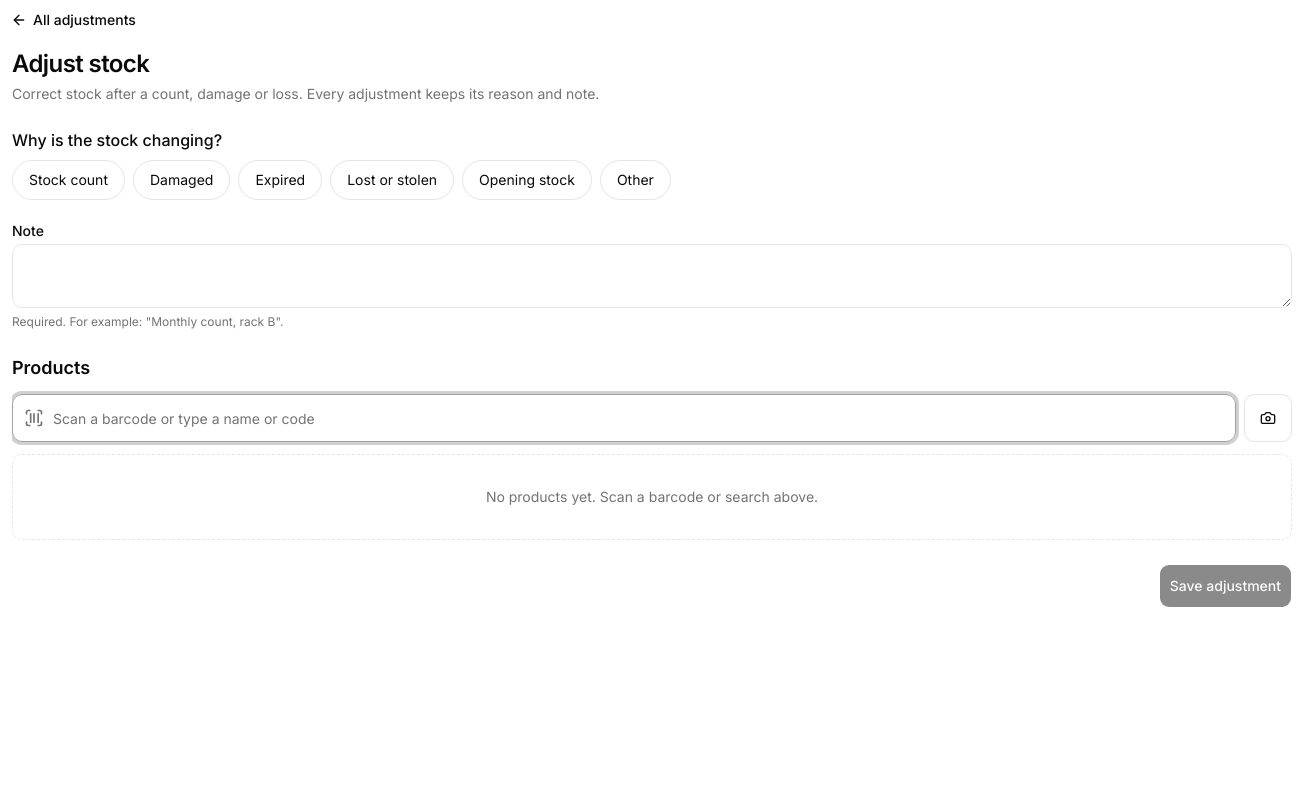
Scenario: adjusting stock › can remove instead of count, and shows line errors from the server
Type "8901719101038" into the field named "Scan or search a product" at {"x": 624, "y": 418}, box x1=12 y1=394 x2=1236 y2=442
Then press Enter
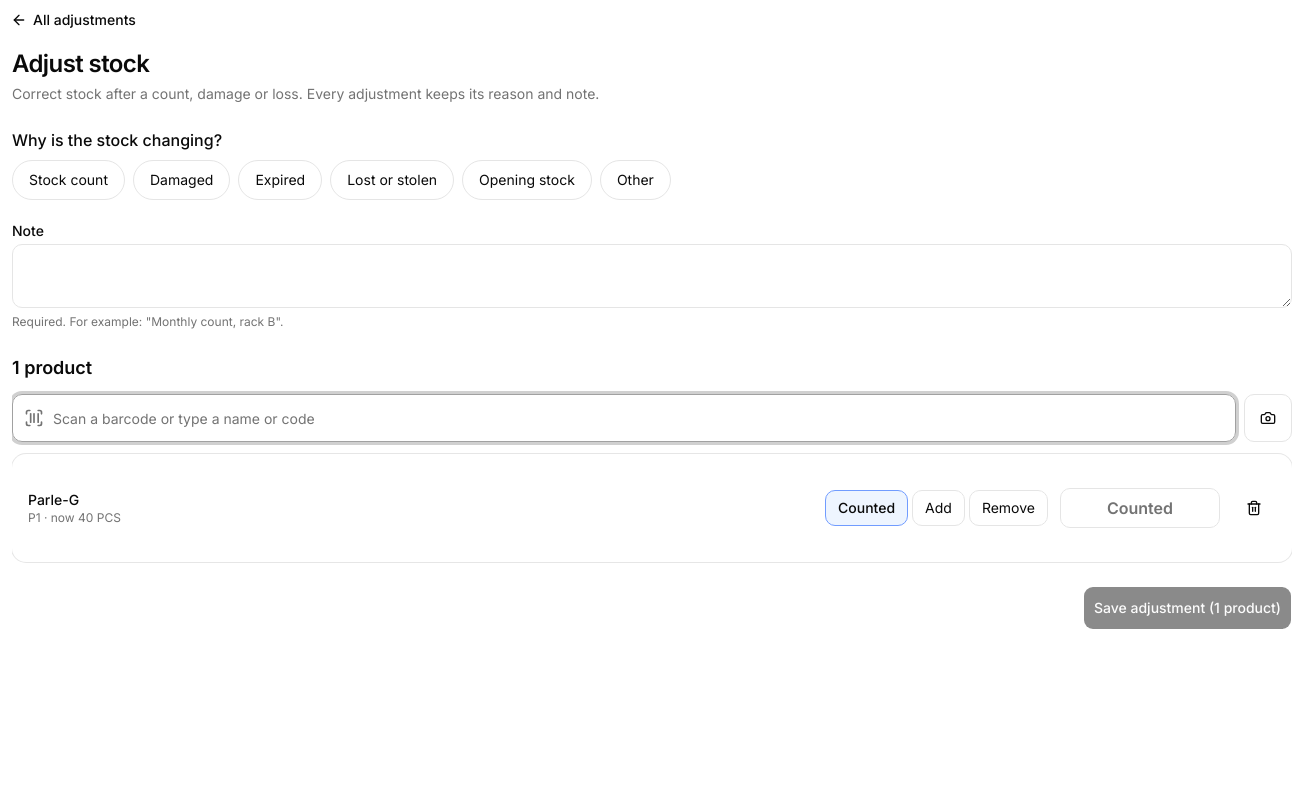
Click the radio button labelled "Remove" at {"x": 1008, "y": 508}, box x1=969 y1=490 x2=1048 y2=526
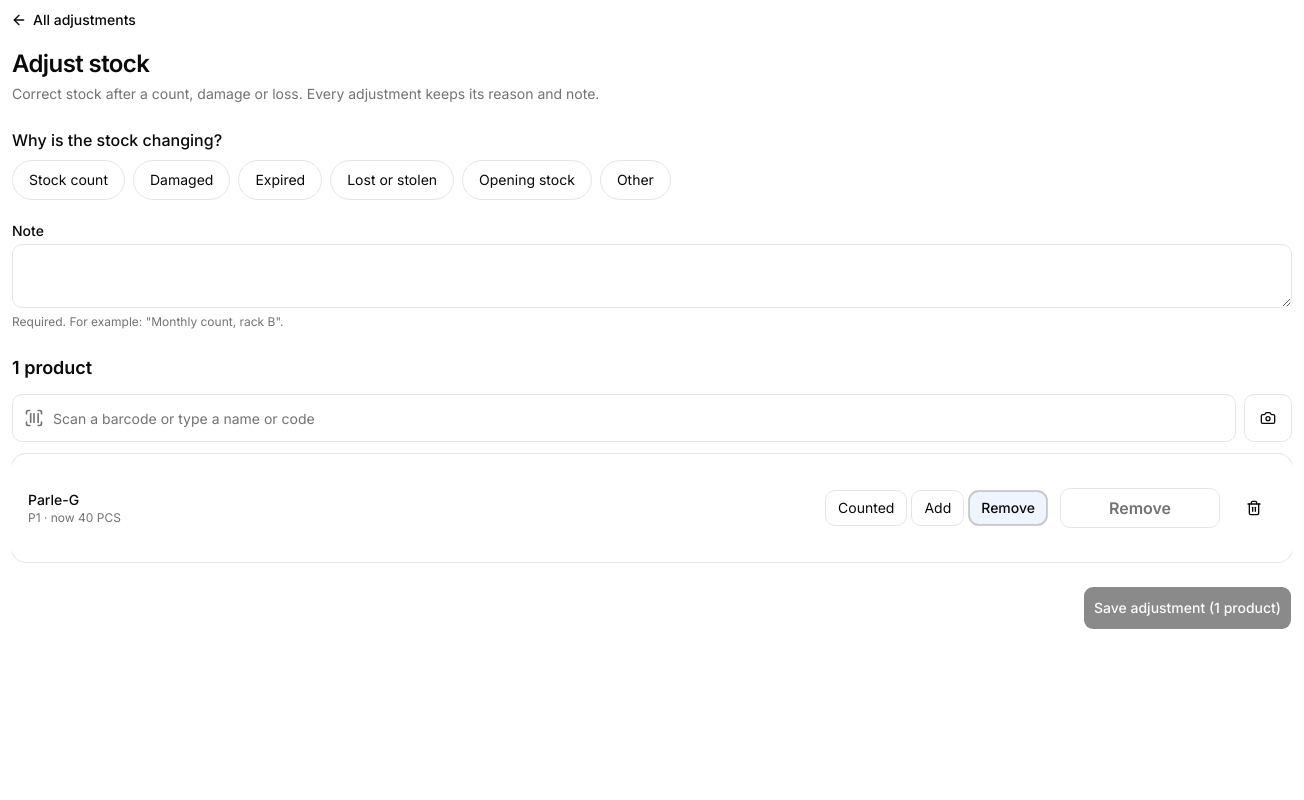
Now the field named "Quantity of Parle-G to remove, in PCS" is shown, box x1=1060 y1=488 x2=1220 y2=528
Click the radio button labelled "Damaged" at {"x": 182, "y": 180}, box x1=133 y1=160 x2=230 y2=200
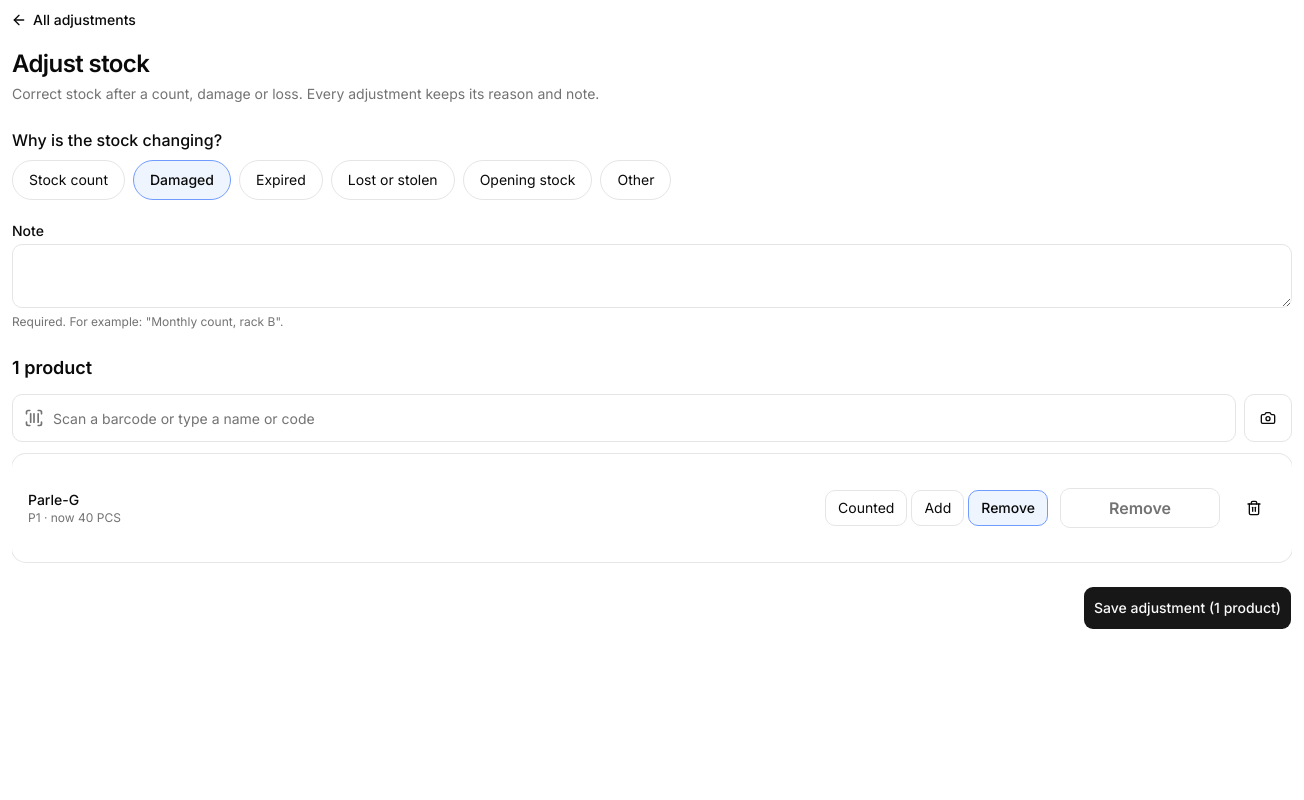
Type "Wet" into the text box labelled "Note" at {"x": 652, "y": 276}, box x1=12 y1=244 x2=1292 y2=308
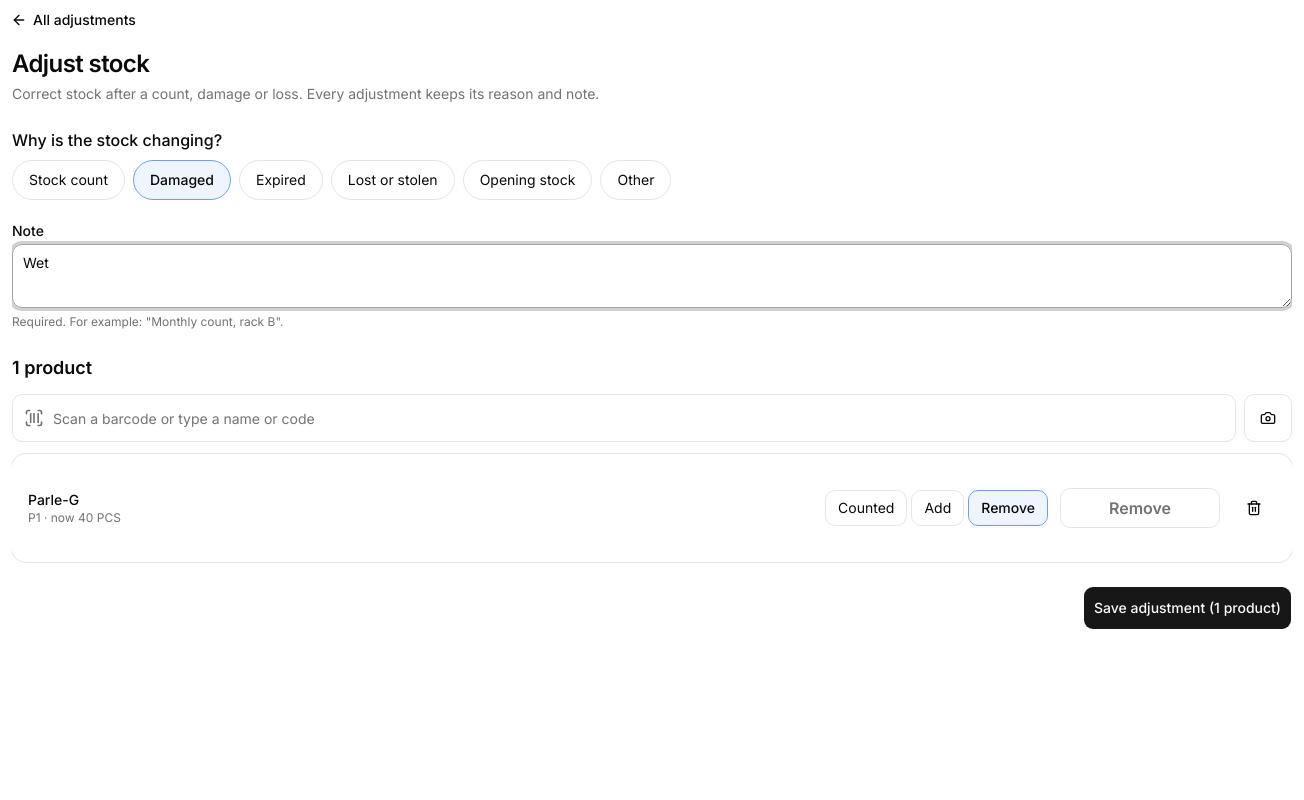
Click the button "Save adjustment (1 product)" at {"x": 1188, "y": 608}, box x1=1083 y1=586 x2=1292 y2=630
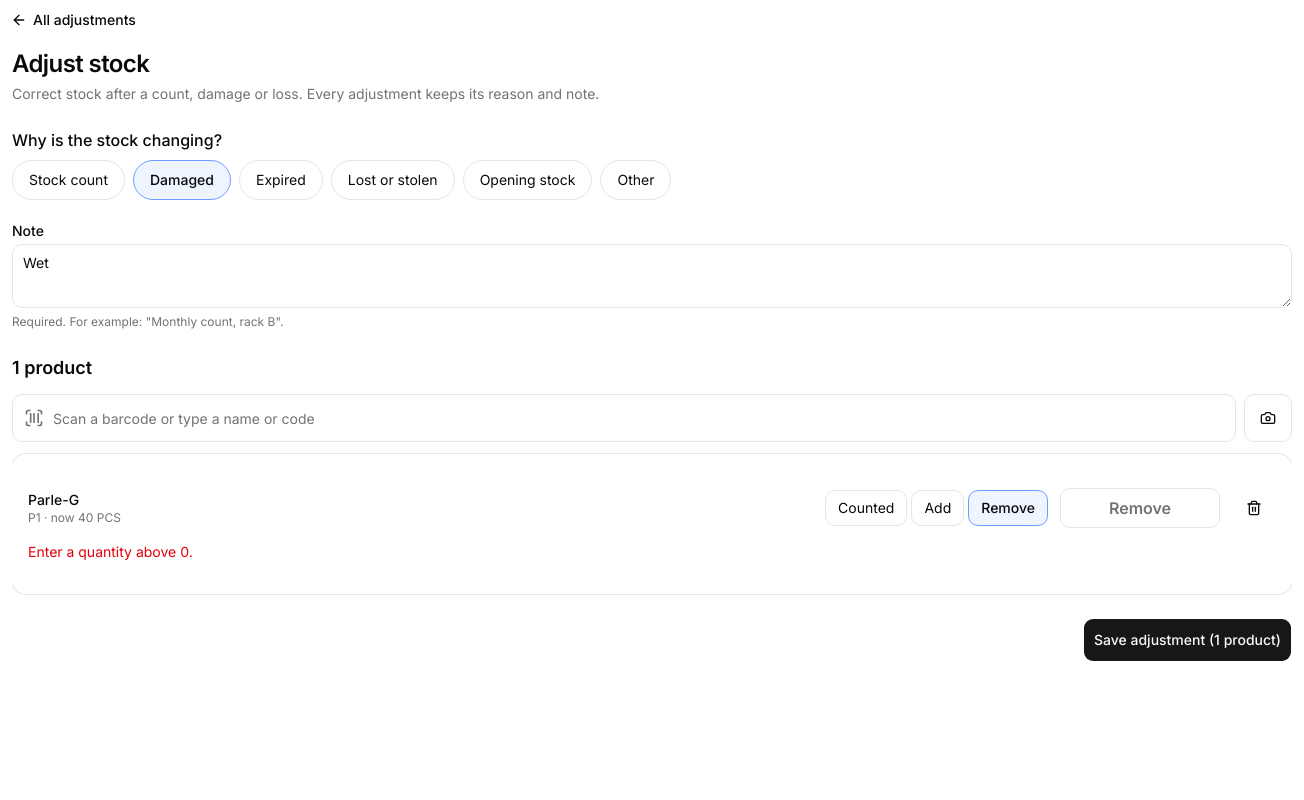
Now the text "Enter a quantity above 0." is shown, box x1=28 y1=543 x2=193 y2=560
